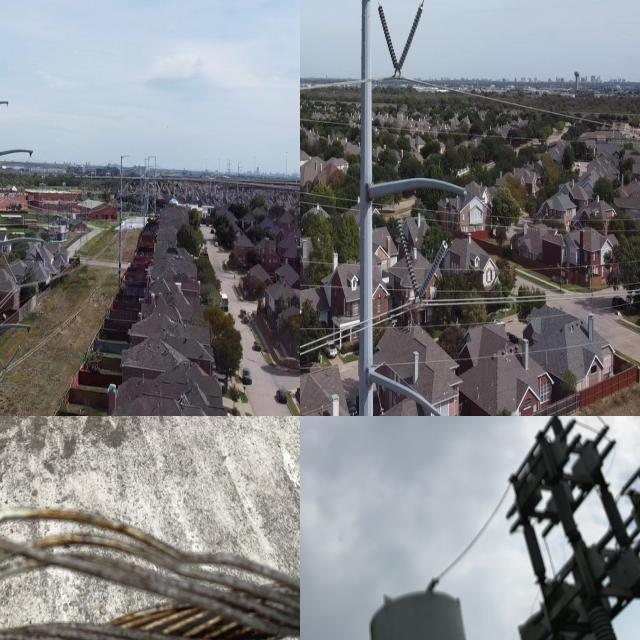正常绝缘子: (393, 2, 426, 80), (414, 238, 451, 307), (394, 214, 423, 302), (376, 0, 401, 73), (13, 254, 39, 290), (2, 166, 26, 204), (2, 338, 25, 375), (0, 248, 21, 288), (0, 175, 9, 201), (0, 353, 7, 375)
电缆破损: (0, 476, 300, 640)
